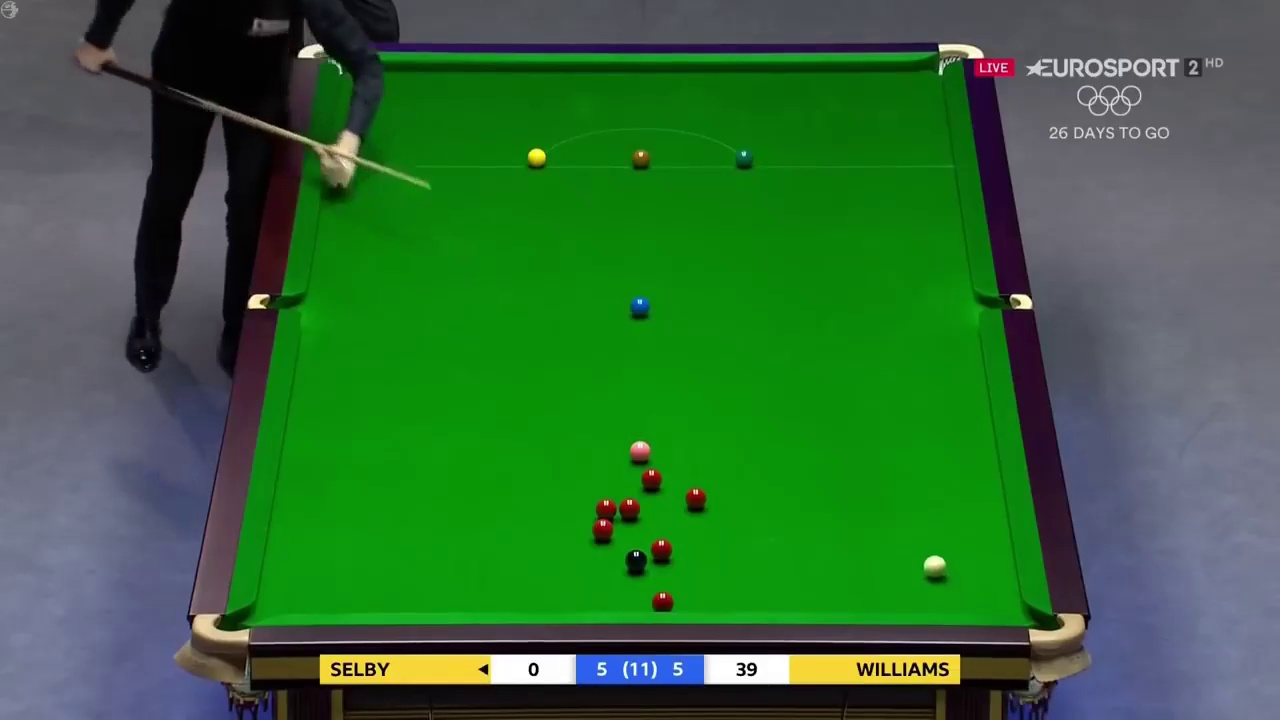ball: (648, 538, 677, 565), (637, 465, 665, 490), (630, 438, 655, 462), (616, 496, 640, 521), (629, 294, 651, 321), (685, 487, 708, 509), (591, 517, 613, 539), (624, 545, 644, 568), (732, 148, 754, 168), (527, 146, 545, 167), (633, 148, 647, 166)
